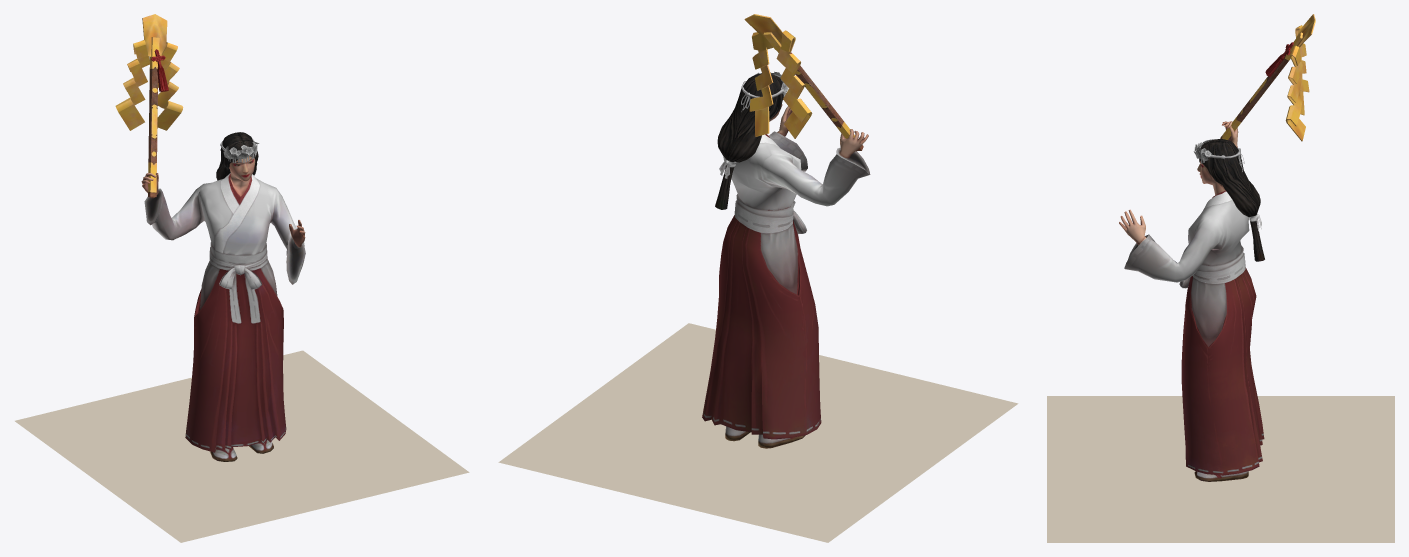
The model's file is 176-miko.glb.
The picture shows the model from 3 angles, left to right: view 1: azimuth 30°, elevation 25°; view 2: azimuth 150°, elevation 25°; view 3: azimuth 270°, elevation 25°; orthographic projection. The views are drawn at different scales.
Bounding box in the file's own units: 2 × 2.72 × 2.
Materials: 3 (2 with a texture image).
